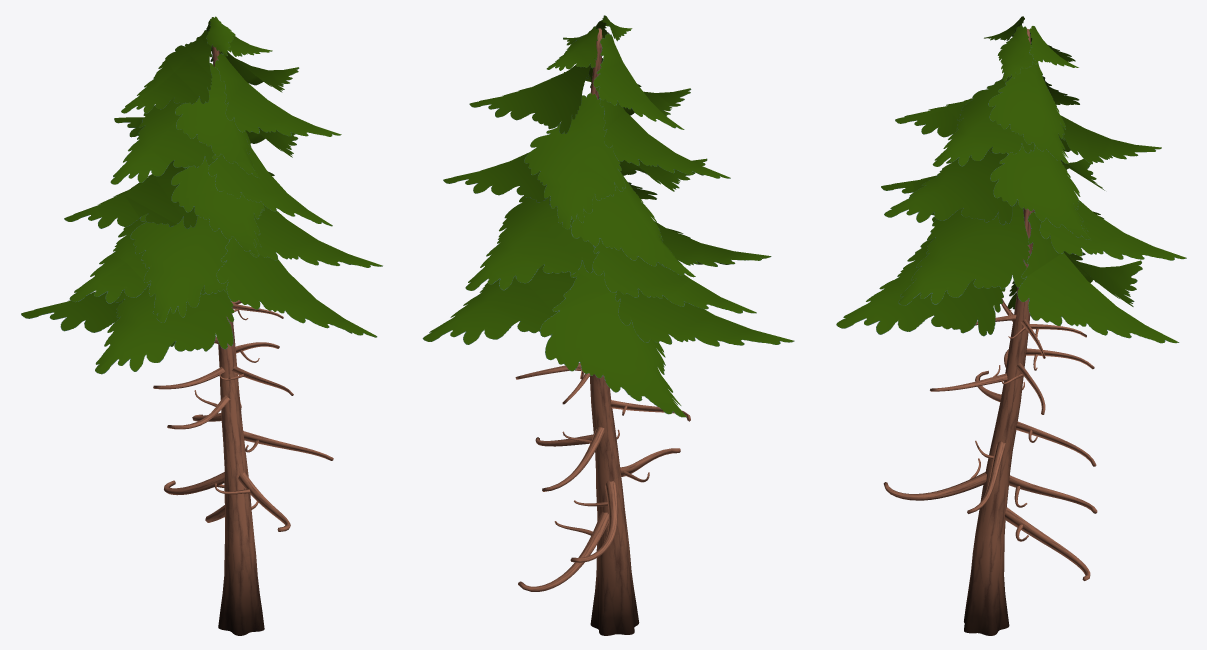
The model's file is Pine_3.glb.
3 renders of one model, left to right at view 1: azimuth 30°, elevation 25°; view 2: azimuth 150°, elevation 25°; view 3: azimuth 270°, elevation 25°, orthographic. The views are drawn at different scales.
Visible parts, largest first — view 1: Pine_3; view 2: Pine_3; view 3: Pine_3.
Boxes of the visible parts, left/top/right/bottom form: Pine_3: left=21, top=16, right=382, bottom=635; Pine_3: left=422, top=15, right=794, bottom=635; Pine_3: left=836, top=16, right=1186, bottom=635.
Bounding box in the file's own units: 3.61 × 7.39 × 4.
Materials: 2 (2 with a texture image).
